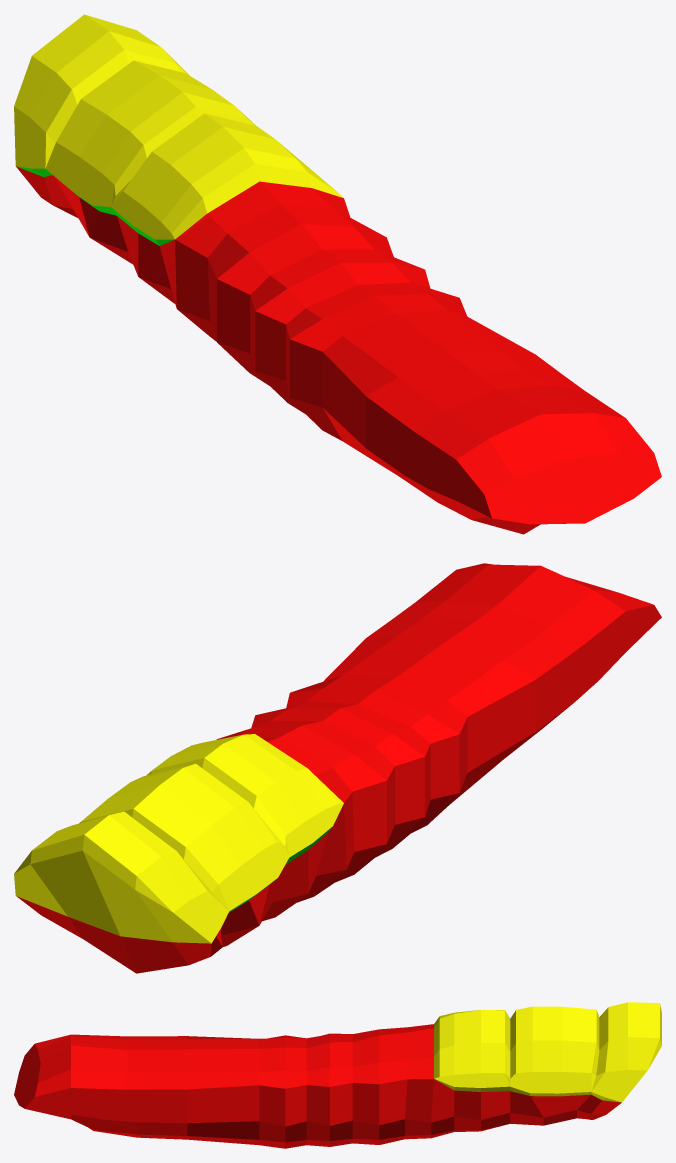
File: Mo_Shrolm_Body.fbx
3 renders of one model, top to bottom at view 1: azimuth 30°, elevation 25°; view 2: azimuth 150°, elevation 25°; view 3: azimuth 270°, elevation 25°, orthographic. The views are drawn at different scales.
Parts seen in each view (by area): view 1: Body3D; view 2: Body3D; view 3: Body3D.
Part boxes in pixels (x1,y1,x2,y2): Body3D: [14, 14, 661, 534]; Body3D: [14, 563, 661, 973]; Body3D: [14, 1002, 661, 1148].
Size of the model in its own units: 77.89 by 86.37 by 346.
